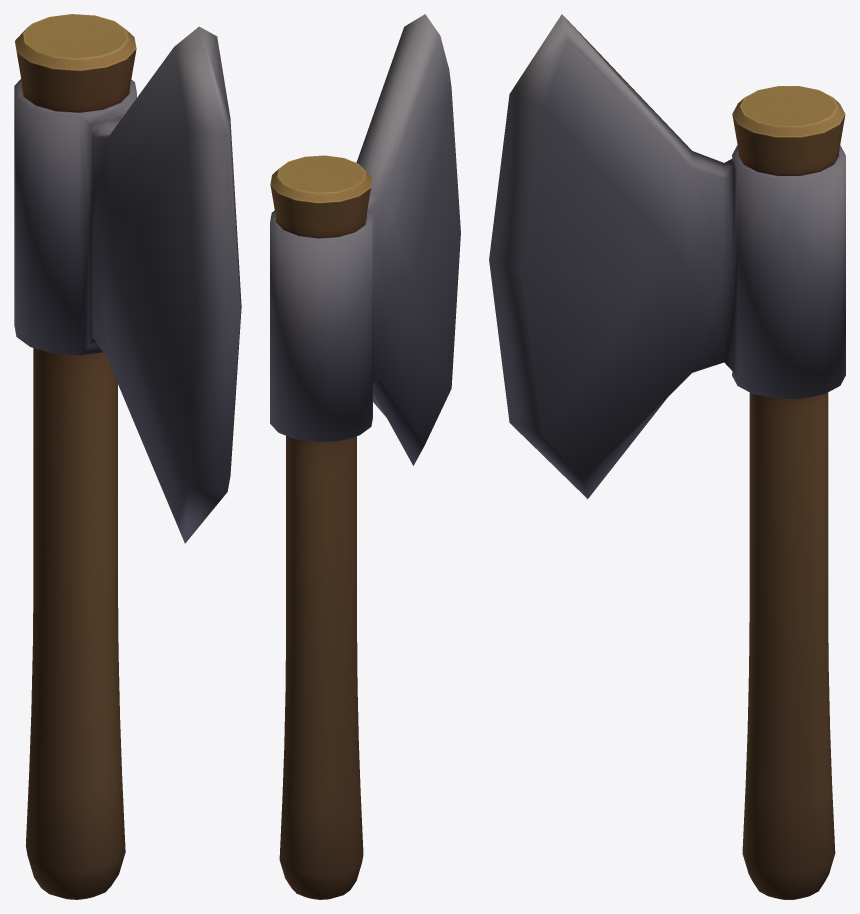
The model's file is Axe.fbx.
The picture shows the model from 3 angles, left to right: view 1: azimuth 30°, elevation 25°; view 2: azimuth 150°, elevation 25°; view 3: azimuth 270°, elevation 25°; orthographic projection. The views are drawn at different scales.
Visible parts, largest first — view 1: Cube.002; view 2: Cube.002; view 3: Cube.002.
Boxes of the visible parts, <box> form: Cube.002: <box>14,14,241,899</box>; Cube.002: <box>270,14,460,899</box>; Cube.002: <box>489,14,845,899</box>.
Bounding box in the file's own units: 27.42 × 240 × 87.98.
Materials: 1 (1 with a texture image).
